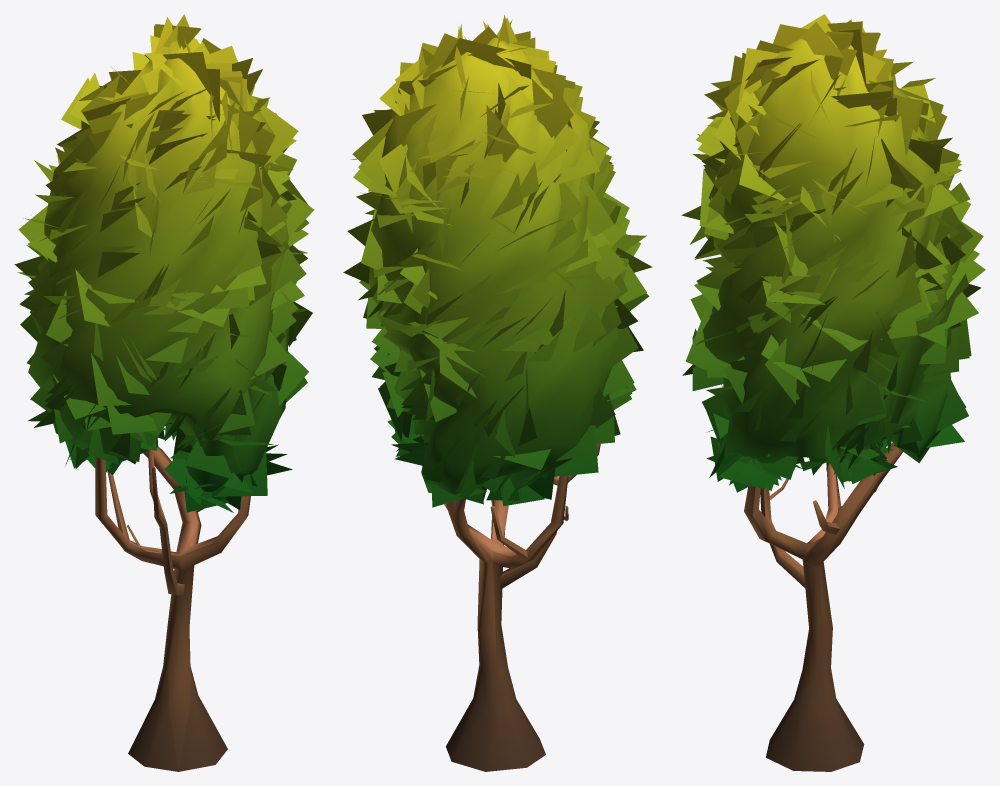
File: Forest_Tree_8A.fbx
3 renders of one model, left to right at view 1: azimuth 30°, elevation 25°; view 2: azimuth 150°, elevation 25°; view 3: azimuth 270°, elevation 25°, orthographic. The views are drawn at different scales.
Parts seen in each view (by area): view 1: Forest_Tree_8A; view 2: Forest_Tree_8A; view 3: Forest_Tree_8A.
Boxes of the visible parts, <box> form: Forest_Tree_8A: <box>14,14,314,771</box>; Forest_Tree_8A: <box>343,15,652,771</box>; Forest_Tree_8A: <box>681,14,985,771</box>.
Bounding box in the file's own units: 277 × 721 × 271.
